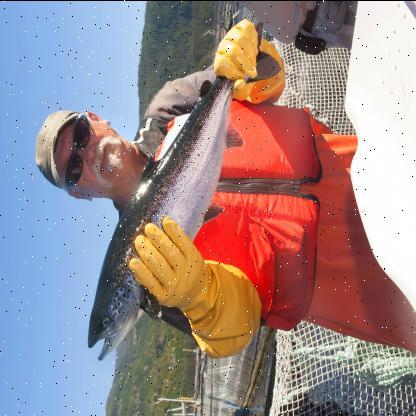fish: (86, 20, 262, 362)
